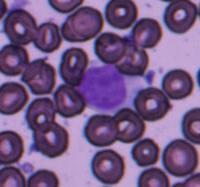L: (75, 62, 130, 113)
